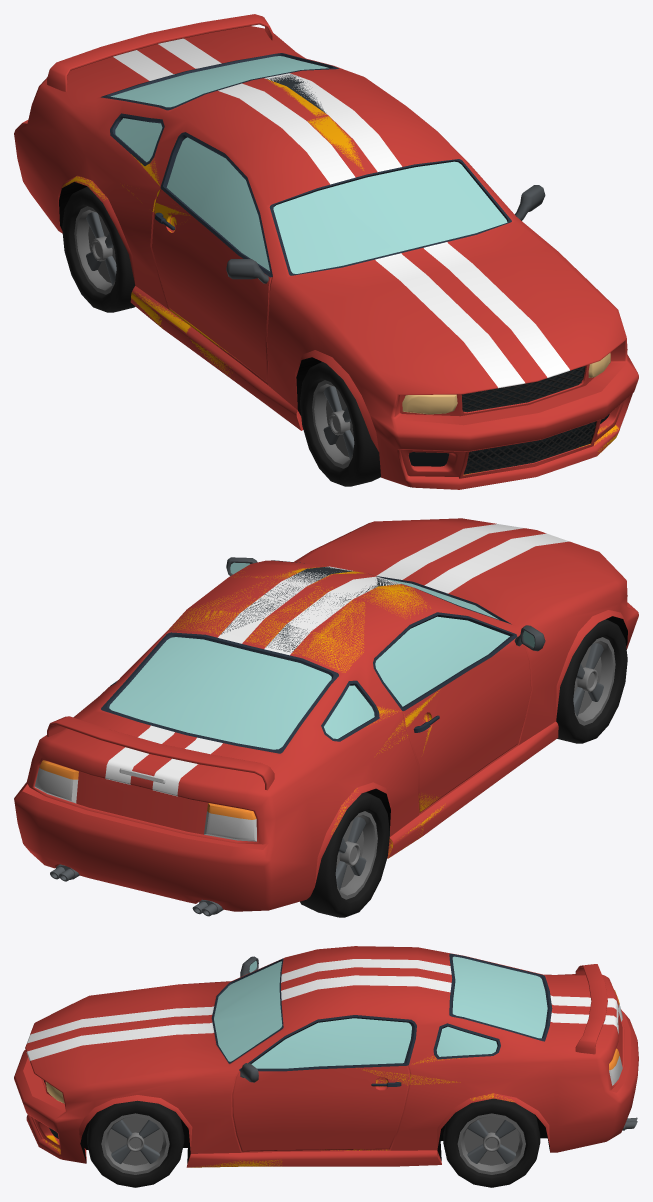
File: SM_Vehicles_05_V1.fbx
3 renders of one model, top to bottom at view 1: azimuth 30°, elevation 25°; view 2: azimuth 150°, elevation 25°; view 3: azimuth 270°, elevation 25°, orthographic. The views are drawn at different scales.
Parts seen in each view (by area): view 1: SM_Vehicles_05_V1, SM_Vehicles_05_V2, SM_Vehicles_05_FR, SM_Vehicles_05_RR; view 2: SM_Vehicles_05_V1, SM_Vehicles_05_V2, SM_Vehicles_05_RR, SM_Vehicles_05_FR; view 3: SM_Vehicles_05_V1, SM_Vehicles_05_RL, SM_Vehicles_05_FL, SM_Vehicles_05_V2.
Part boxes in pixels (x1,y1,x2,y2): SM_Vehicles_05_V1: [14, 14, 638, 489]; SM_Vehicles_05_V2: [62, 54, 619, 475]; SM_Vehicles_05_FR: [300, 362, 380, 486]; SM_Vehicles_05_RR: [62, 186, 135, 312]; SM_Vehicles_05_V1: [14, 518, 638, 916]; SM_Vehicles_05_V2: [108, 566, 448, 857]; SM_Vehicles_05_RR: [300, 792, 389, 917]; SM_Vehicles_05_FR: [556, 619, 627, 743]; SM_Vehicles_05_V1: [14, 946, 638, 1167]; SM_Vehicles_05_RL: [443, 1098, 540, 1187]; SM_Vehicles_05_FL: [87, 1100, 184, 1187]; SM_Vehicles_05_V2: [43, 958, 618, 1167].
Bounding box in the file's own units: 2 × 1.36 × 4.54.
